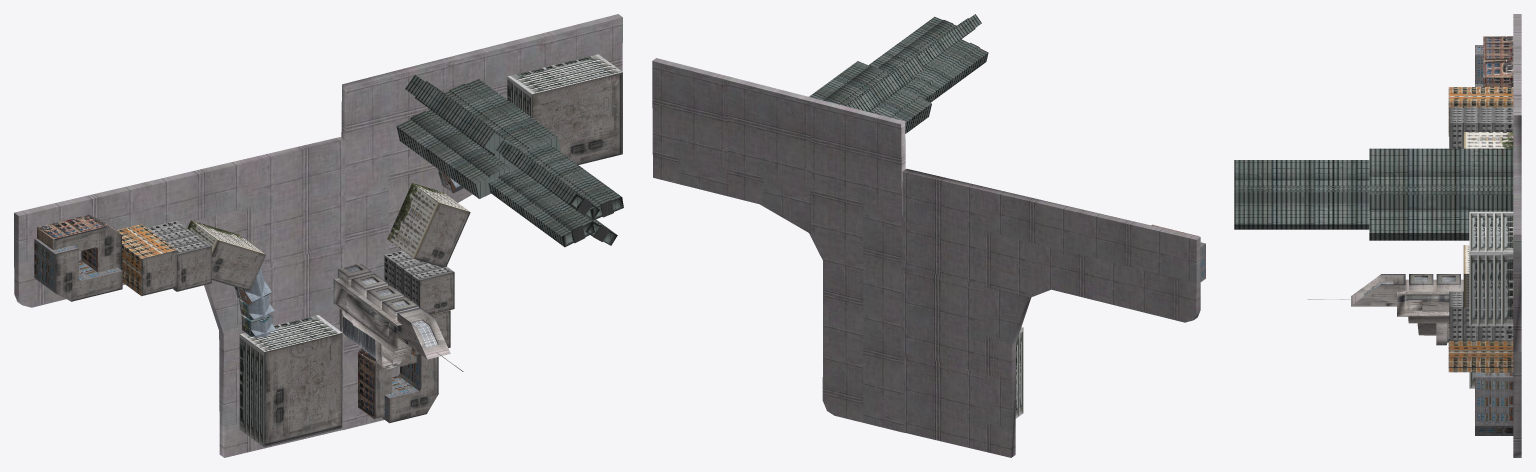
The model's file is city_no_fleche.obj.
3 renders of one model, left to right at view 1: azimuth 30°, elevation 25°; view 2: azimuth 150°, elevation 25°; view 3: azimuth 270°, elevation 25°, orthographic. The views are drawn at different scales.
Visible parts, largest first — view 1: city_mesh01; view 2: city_mesh01; view 3: city_mesh01.
Part boxes in pixels (x1,y1,x2,y2): city_mesh01: (14, 14, 623, 457); city_mesh01: (652, 14, 1205, 457); city_mesh01: (1234, 14, 1521, 457).
Bounding box in the file's own units: 282 × 154 × 128.
3 materials, 3 textured.
